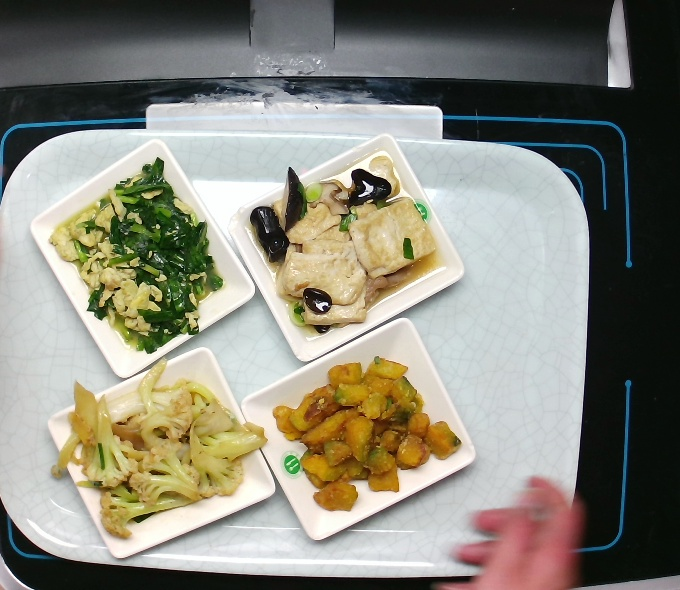wcq-DanHuangNanGua: (264, 356, 464, 515)
wcq-JiaChangDouFu: (245, 156, 440, 345)
wcq-JiuCaiJiDan: (49, 156, 231, 351)
wcq-QiuCai: (42, 358, 263, 533)
